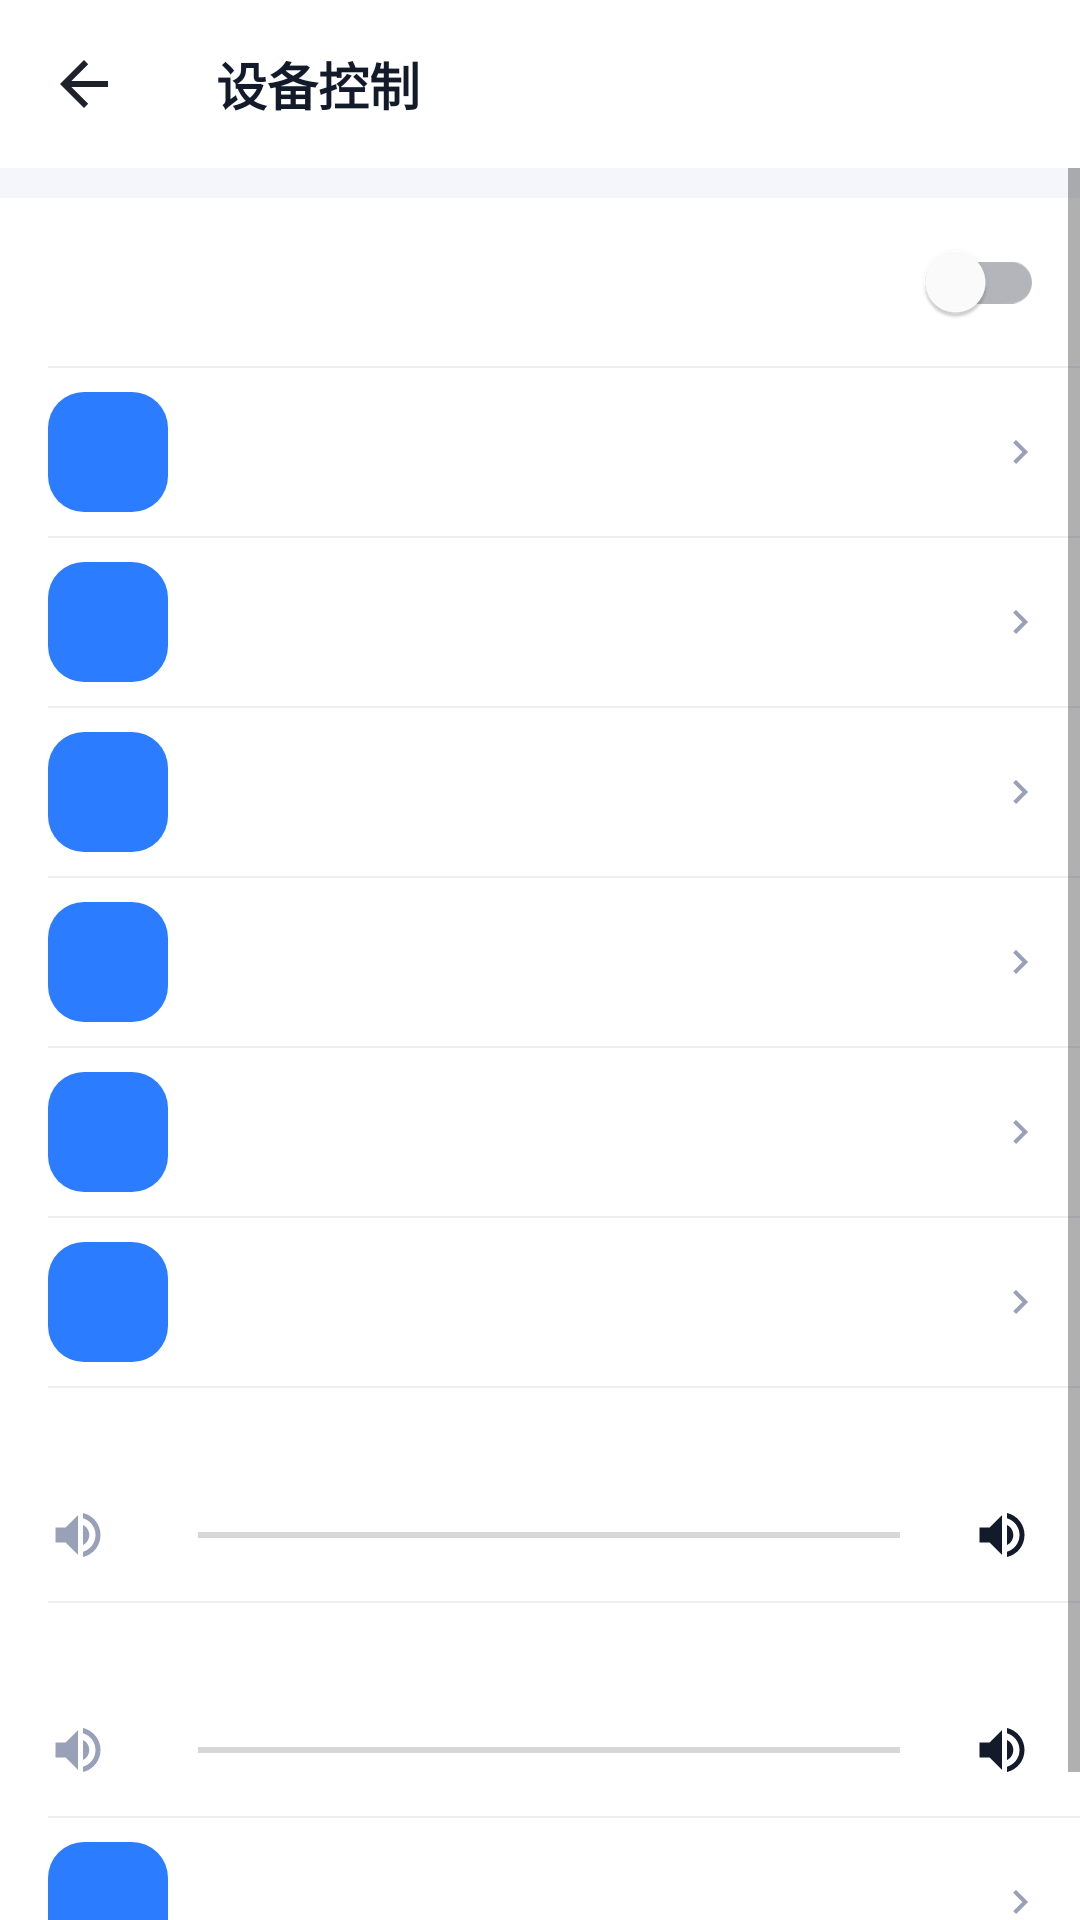

Icon click points for this 1080x1920 phone screenshot, format [x,y]:
volume: [78,1535], [1002,1535], [78,1750], [1002,1750]
